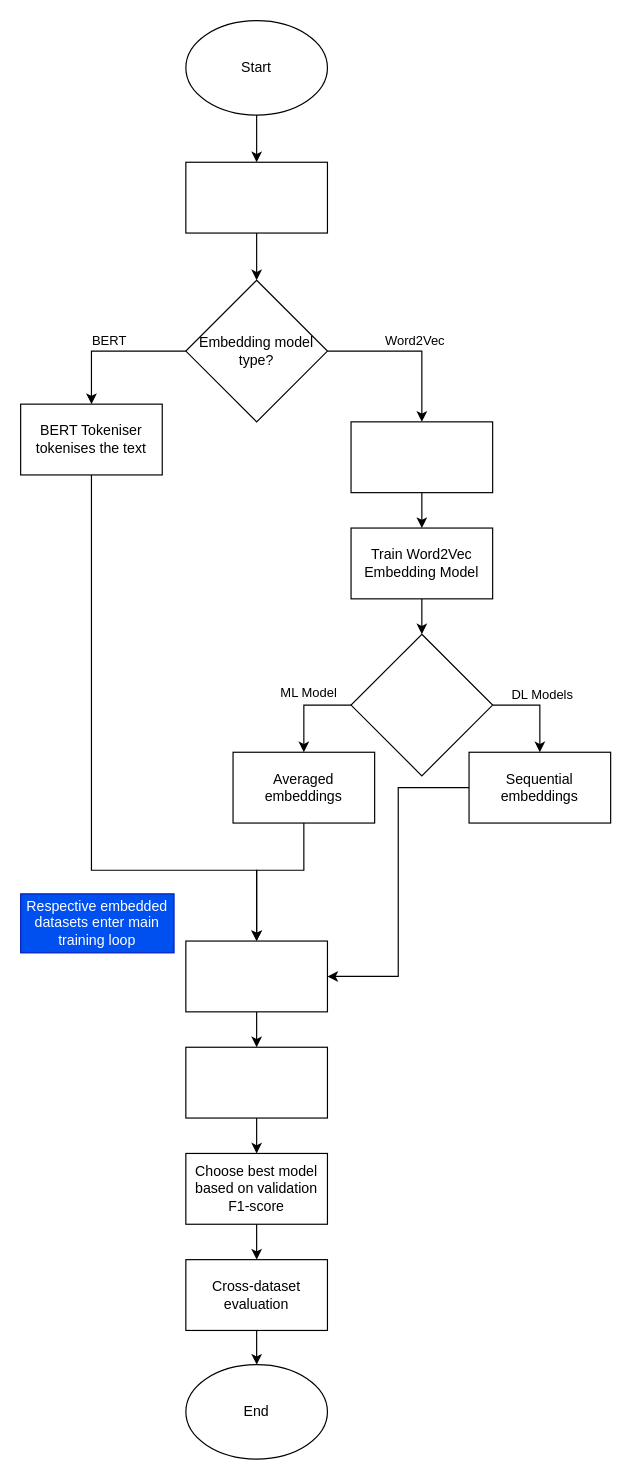
Some shapes in this 631 by 1480 pixel diagram are drawn without their labels. Here are the shapes that lost their labels. From the top down, the centre of each, then its label:
At point (256, 197): "Data Preprocessing".
At point (421, 457): "Lower-casing and lemmatisation".
At point (421, 704): "Deep learning or machine learning model?".
At point (256, 976): "Dataset split (85-15)".
At point (256, 1082): "Cross-validation training; final evaluation on test set".
